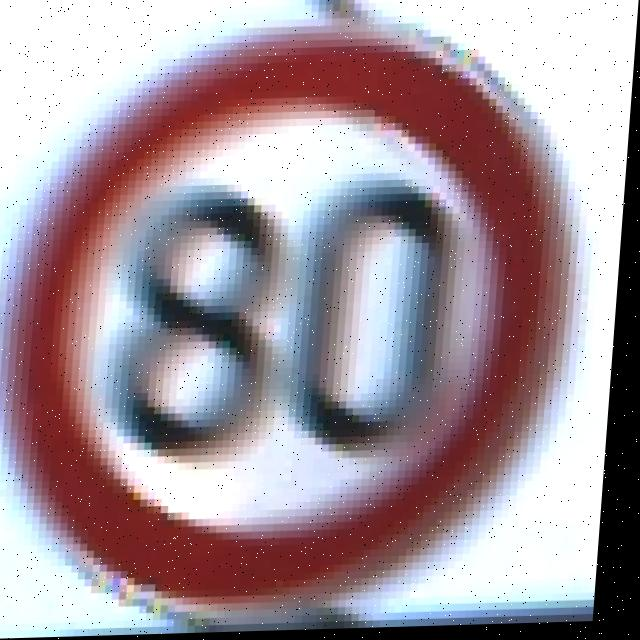speed_limit_80: (0, 30, 580, 602)
